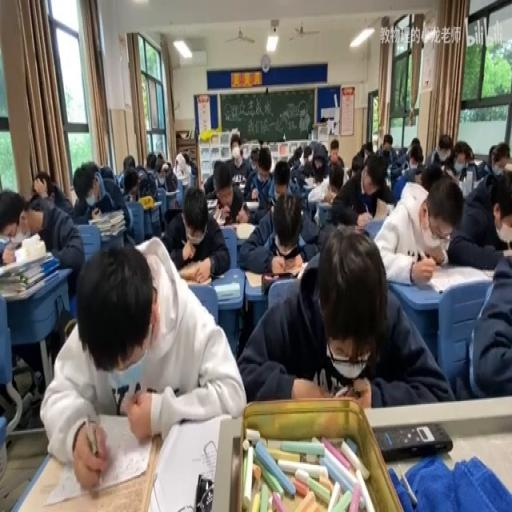calculator: (374, 422, 452, 461), (423, 262, 490, 293), (213, 282, 241, 300), (316, 200, 334, 228), (363, 218, 385, 239), (372, 195, 390, 219), (234, 222, 257, 240), (457, 170, 472, 196), (163, 188, 178, 213), (243, 269, 263, 287), (183, 272, 211, 284), (468, 174, 486, 190), (212, 204, 224, 224), (482, 266, 498, 277), (219, 222, 235, 232), (303, 176, 315, 188), (233, 181, 246, 192), (204, 199, 218, 209), (245, 199, 259, 209), (0, 234, 13, 244), (211, 273, 224, 279)
paper: (37, 238, 238, 490), (237, 225, 447, 408), (374, 172, 461, 282), (2, 181, 82, 293), (236, 181, 318, 273), (448, 160, 512, 270), (162, 184, 228, 282), (73, 160, 133, 244), (330, 150, 394, 228), (132, 162, 162, 228), (221, 134, 252, 189), (426, 132, 455, 175), (394, 160, 424, 200), (304, 142, 330, 182), (448, 141, 474, 179), (154, 155, 178, 189), (350, 139, 372, 172), (272, 161, 290, 199), (122, 168, 140, 202), (327, 139, 344, 171), (377, 132, 394, 161), (32, 171, 51, 196), (406, 138, 422, 166), (486, 142, 500, 174), (288, 176, 307, 198), (286, 144, 302, 168), (391, 148, 407, 168), (174, 165, 190, 185), (329, 168, 342, 192), (98, 164, 114, 179), (145, 152, 157, 171), (122, 154, 134, 170), (249, 148, 258, 169), (230, 141, 241, 158), (136, 166, 146, 184), (302, 145, 312, 161), (182, 151, 190, 165), (242, 144, 250, 158), (466, 154, 474, 165), (165, 164, 172, 174)
person: (261, 272, 297, 294), (194, 471, 214, 509)
